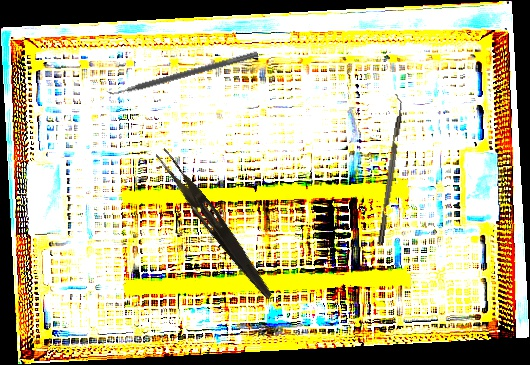Chopper: (370, 93, 407, 246)
Dressing Forceps: (149, 146, 281, 302)
Spatula Surgical: (105, 44, 259, 101)
